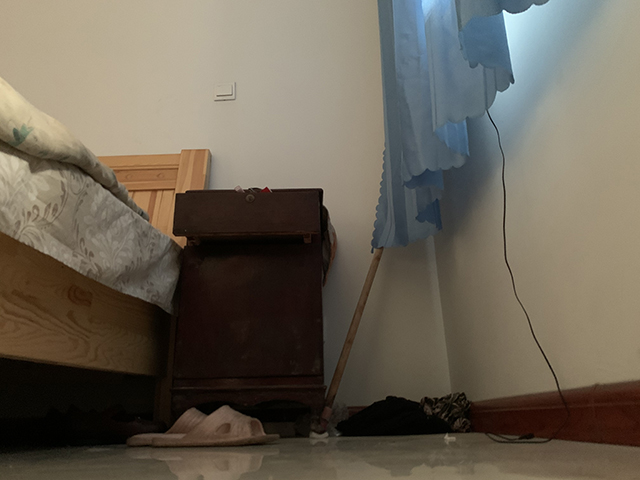bed: (1, 74, 212, 438)
cabinet: (158, 185, 334, 440)
curtain: (370, 1, 511, 255)
slippers: (152, 405, 280, 449), (124, 407, 205, 445)
wire: (481, 112, 572, 446)
